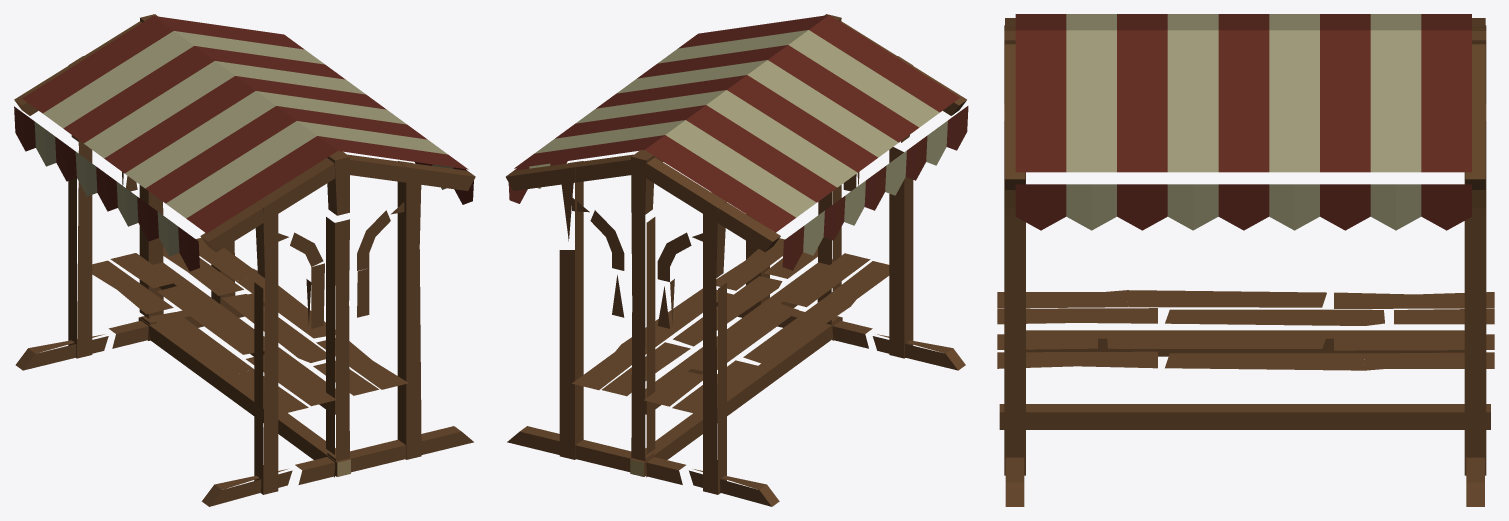
Rendered from kiosk-market.glb.
The picture shows the model from 3 angles, left to right: view 1: azimuth 30°, elevation 25°; view 2: azimuth 150°, elevation 25°; view 3: azimuth 270°, elevation 25°; orthographic projection. The views are drawn at different scales.
Parts seen in each view (by area): view 1: MarketStand_1; view 2: MarketStand_1; view 3: MarketStand_1.
Boxes of the visible parts, left/top/right/bottom form: MarketStand_1: left=14, top=14, right=475, bottom=506; MarketStand_1: left=506, top=14, right=968, bottom=506; MarketStand_1: left=997, top=14, right=1494, bottom=506.
Size of the model in its own units: 2.56 by 2.82 by 3.2.
